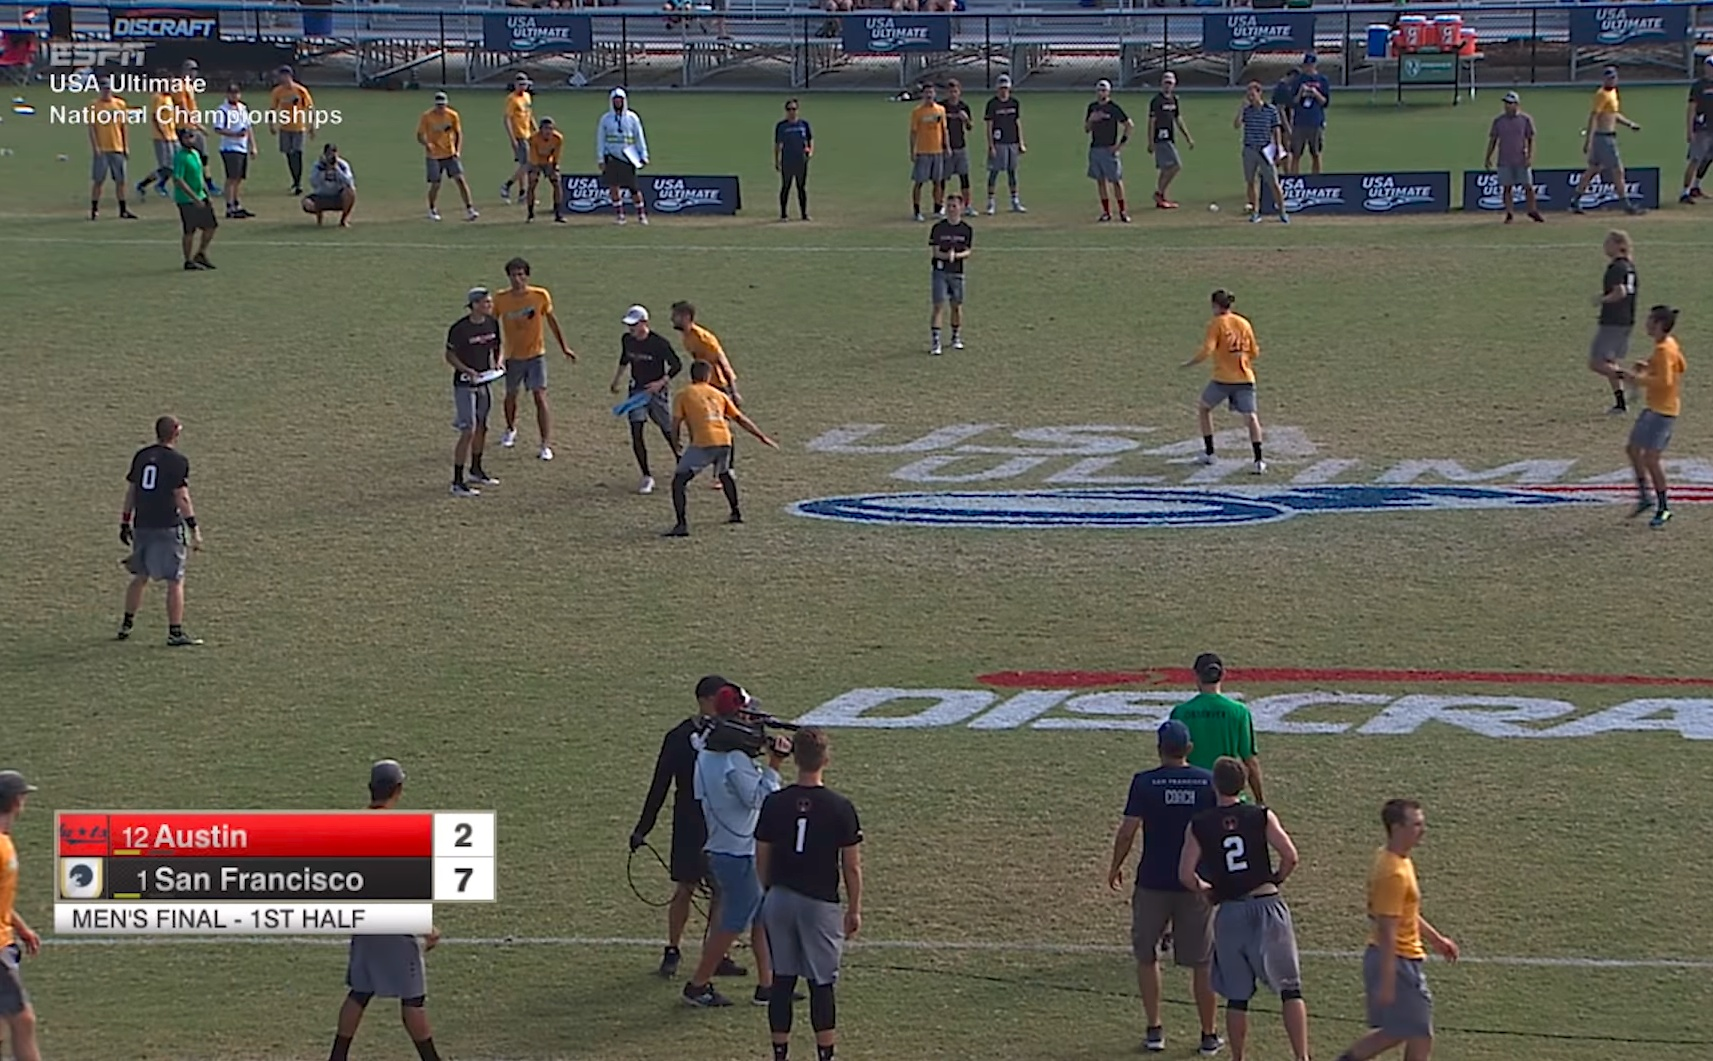frisbee: (472, 370, 505, 383), (13, 106, 34, 114)
